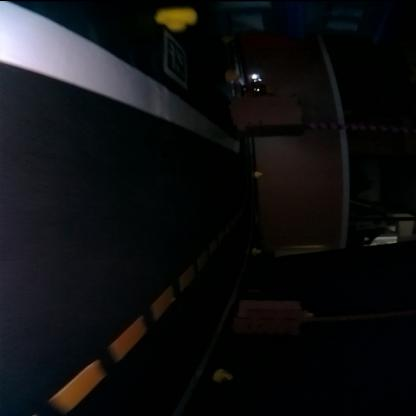Duckie: (156, 7, 198, 31), (216, 369, 234, 382), (254, 172, 262, 176)
QR code: (164, 29, 190, 87)
